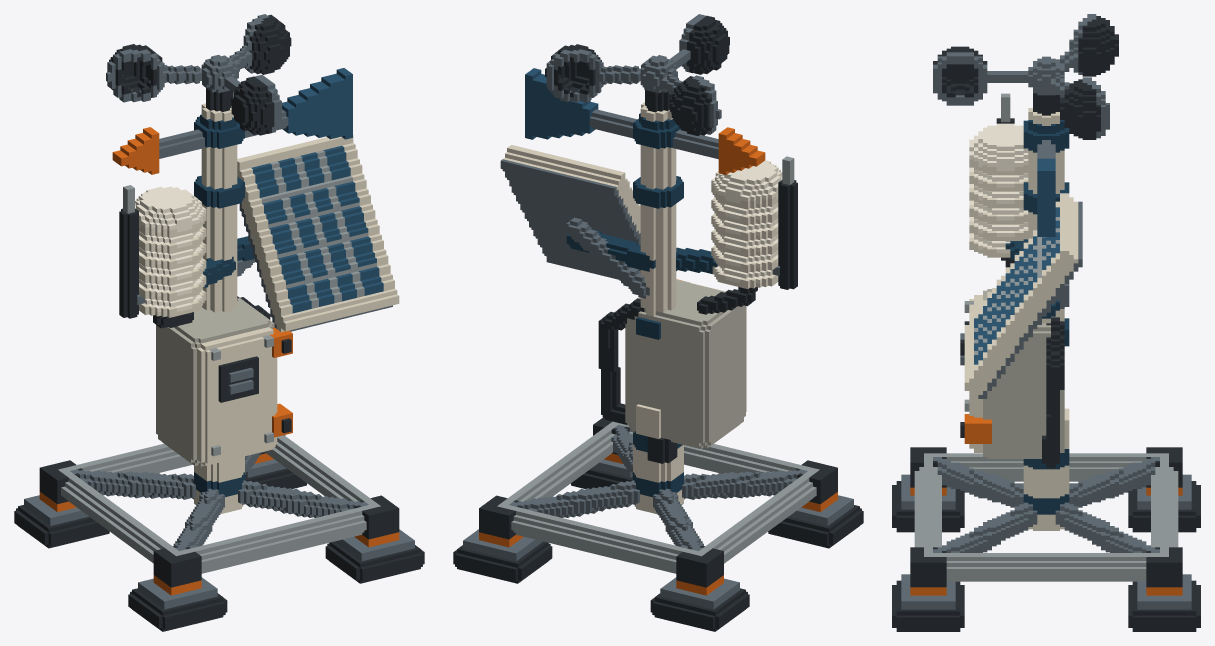
File: weather_instrument.glb
The picture shows the model from 3 angles, left to right: view 1: azimuth 30°, elevation 25°; view 2: azimuth 150°, elevation 25°; view 3: azimuth 270°, elevation 25°; orthographic projection. The views are drawn at different scales.
Parts seen in each view (by area): view 1: weather_instrument; view 2: weather_instrument; view 3: weather_instrument.
Part boxes in pixels (bbox=[...]): weather_instrument: bbox=[14, 14, 424, 631]; weather_instrument: bbox=[453, 14, 863, 631]; weather_instrument: bbox=[892, 14, 1200, 631].
Size of the model in its own units: 1.8 by 3.12 by 1.7.
